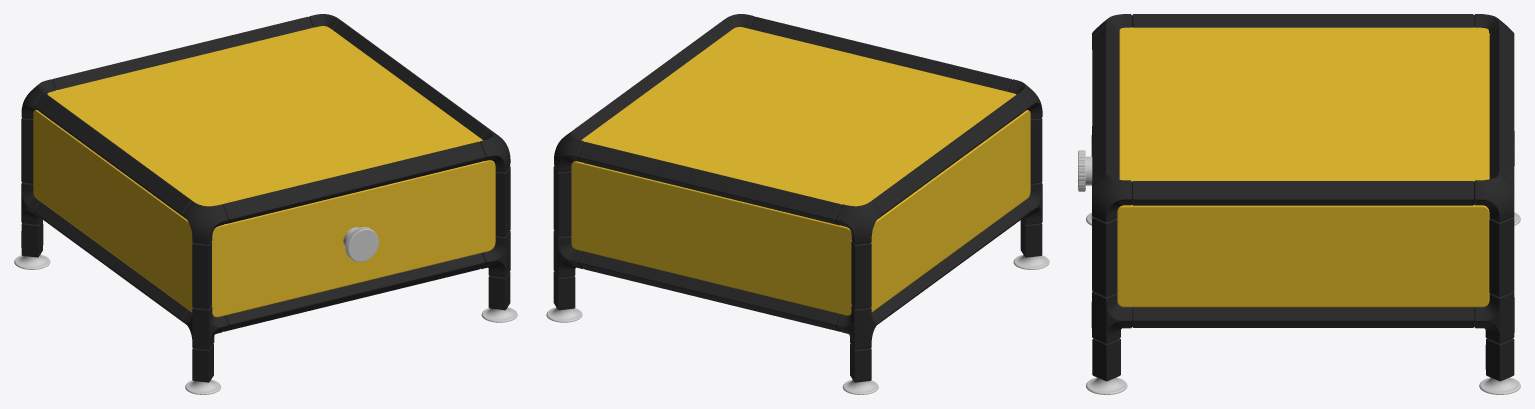
3 views of the same model, side by side, from view 1: azimuth 30°, elevation 25°; view 2: azimuth 150°, elevation 25°; view 3: azimuth 270°, elevation 25° (orthographic). The views are drawn at different scales.
Parts seen in each view (by area): view 1: 329x329x79; view 2: 329x329x79; view 3: 329x329x79.
Part boxes in pixels (x1,y1,x2,y2): 329x329x79: (14,14,517,394); 329x329x79: (546,14,1049,394); 329x329x79: (1078,14,1520,394).
Size of the model in its own units: 0.4189 by 0.2183 by 0.4257.
